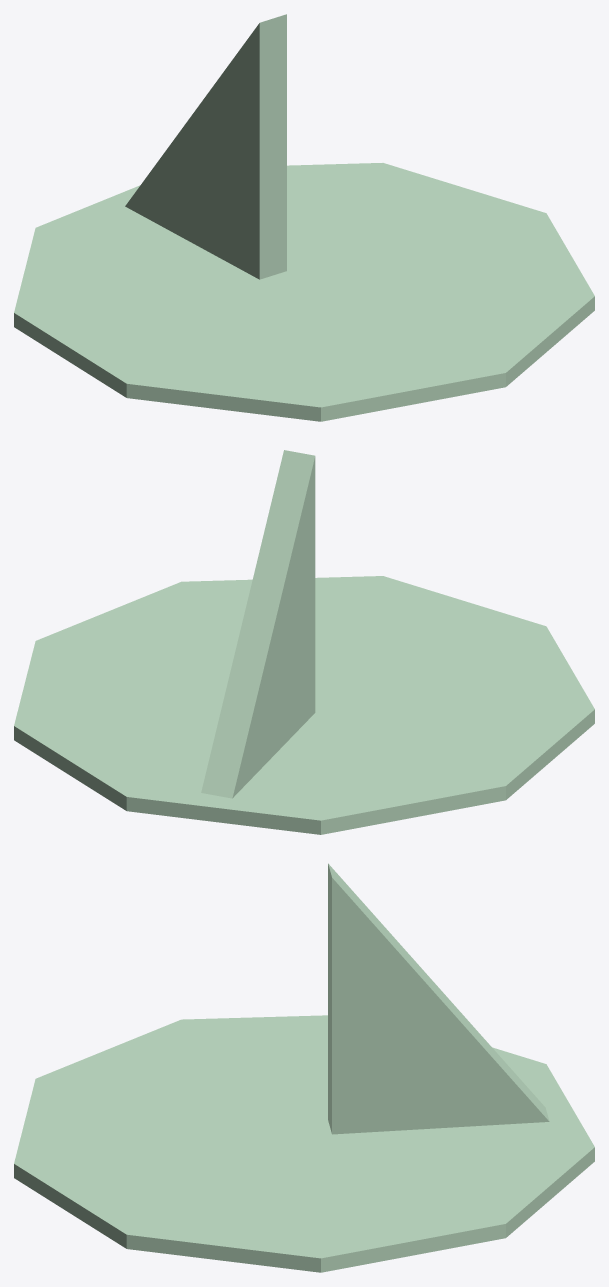
Rendered from singestandTextured.fbx.
The picture shows the model from 3 angles, top to bottom: view 1: azimuth 30°, elevation 25°; view 2: azimuth 150°, elevation 25°; view 3: azimuth 270°, elevation 25°; orthographic projection.
Visible parts, largest first — view 1: pCylinder17, pCube39; view 2: pCylinder17, pCube39; view 3: pCylinder17, pCube39.
Part boxes in pixels (box(x1,y1,x2,y2)): pCylinder17: box(14, 163, 594, 421); pCube39: box(125, 14, 286, 279); pCylinder17: box(14, 576, 594, 834); pCube39: box(201, 450, 315, 798); pCylinder17: box(14, 1015, 594, 1272); pCube39: box(328, 863, 549, 1134).
Bounding box in the file's own units: 7.99 × 4.13 × 8.01.
